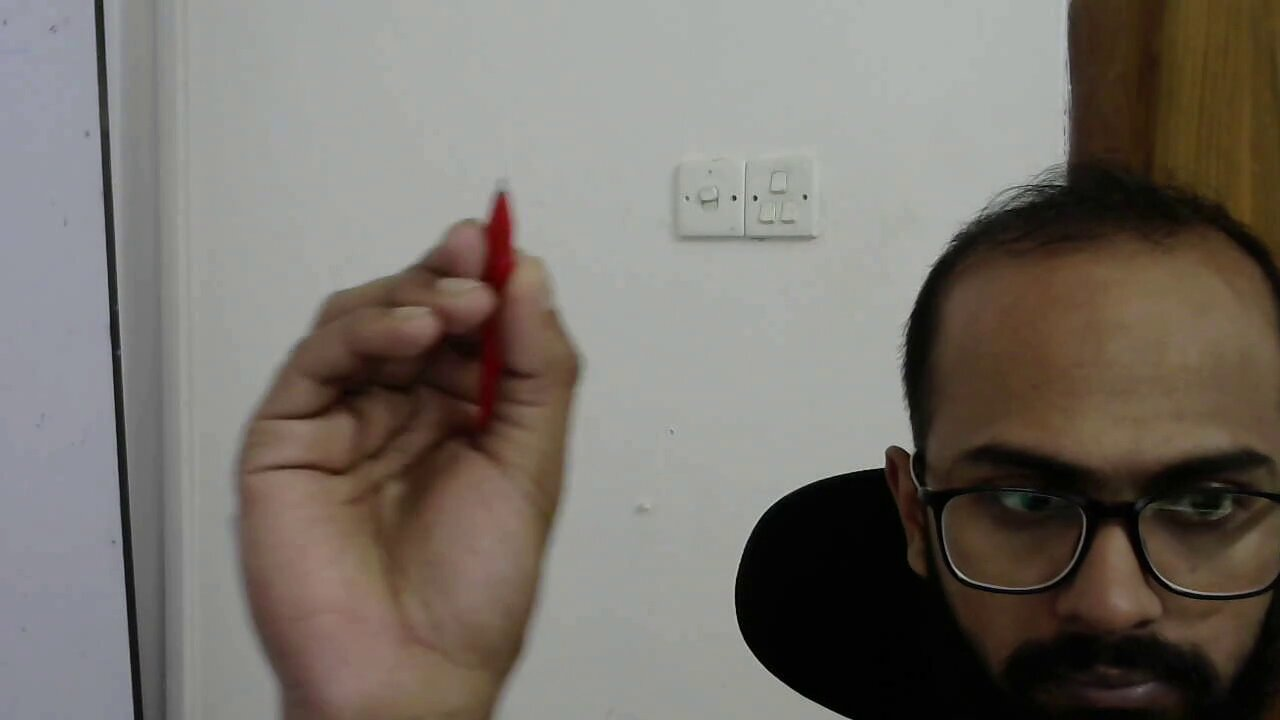pointer: (234, 206, 584, 567)
